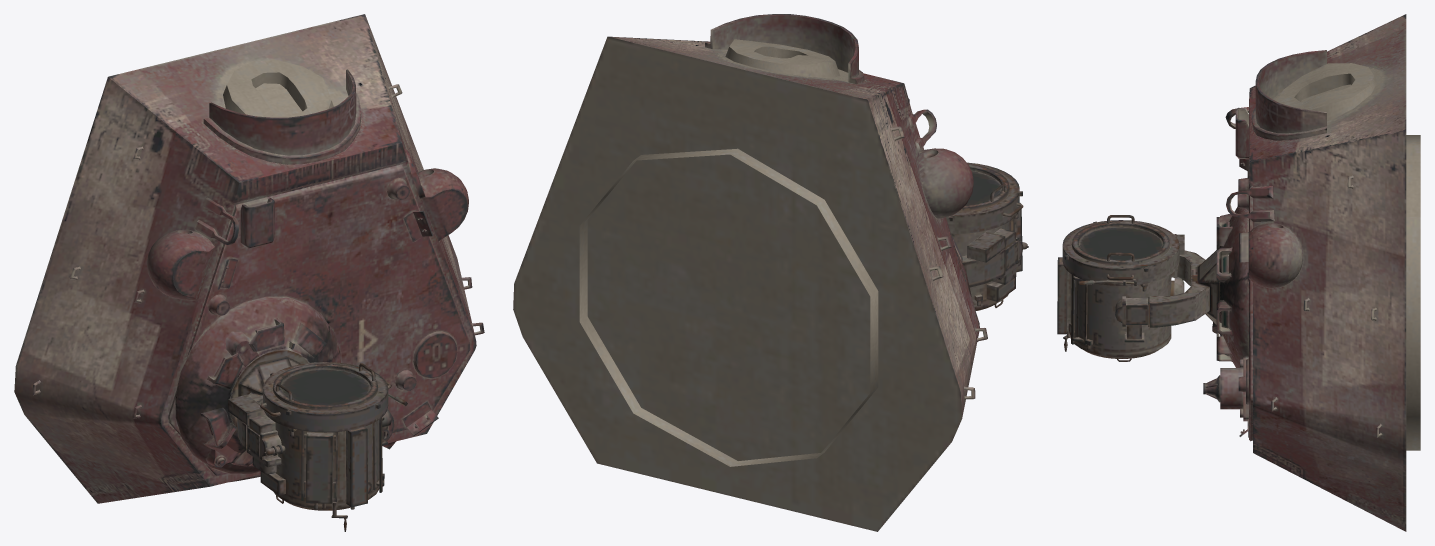
Rendered from Turret_01.glb.
3 renders of one model, left to right at view 1: azimuth 30°, elevation 25°; view 2: azimuth 150°, elevation 25°; view 3: azimuth 270°, elevation 25°, orthographic. The views are drawn at different scales.
Visible parts, largest first — view 1: set_0_group_0, set_0_group_1; view 2: set_0_group_0, set_0_group_1; view 3: set_0_group_0, set_0_group_1.
Part boxes in pixels (x1,y1,x2,y2): set_0_group_0: (14,14,484,503); set_0_group_1: (228,350,407,531); set_0_group_0: (513,14,987,531); set_0_group_1: (946,162,1028,310); set_0_group_0: (1203,14,1420,531); set_0_group_1: (1057,215,1219,361).
Bounding box in the file's own units: 2.59 × 2.37 × 1.97.
2 materials, 2 textured.
